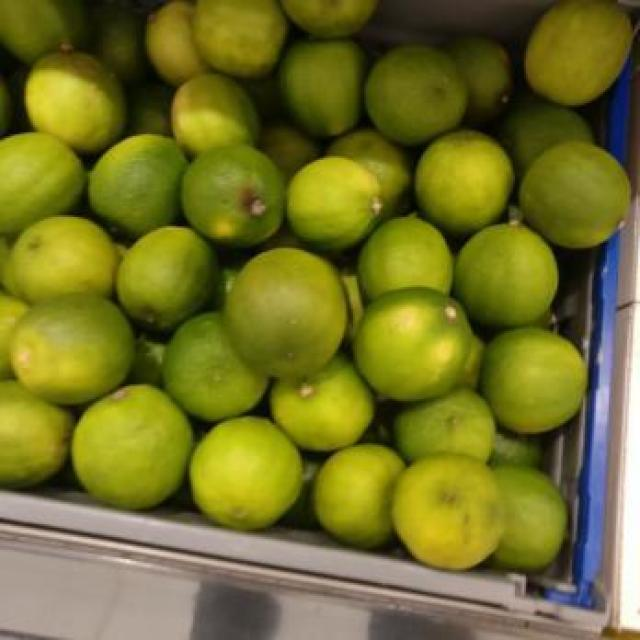-: (9, 298, 141, 408), (522, 138, 638, 256), (182, 425, 312, 526), (355, 289, 473, 395), (484, 324, 589, 438), (403, 466, 508, 580), (7, 208, 125, 298), (285, 140, 385, 241)
